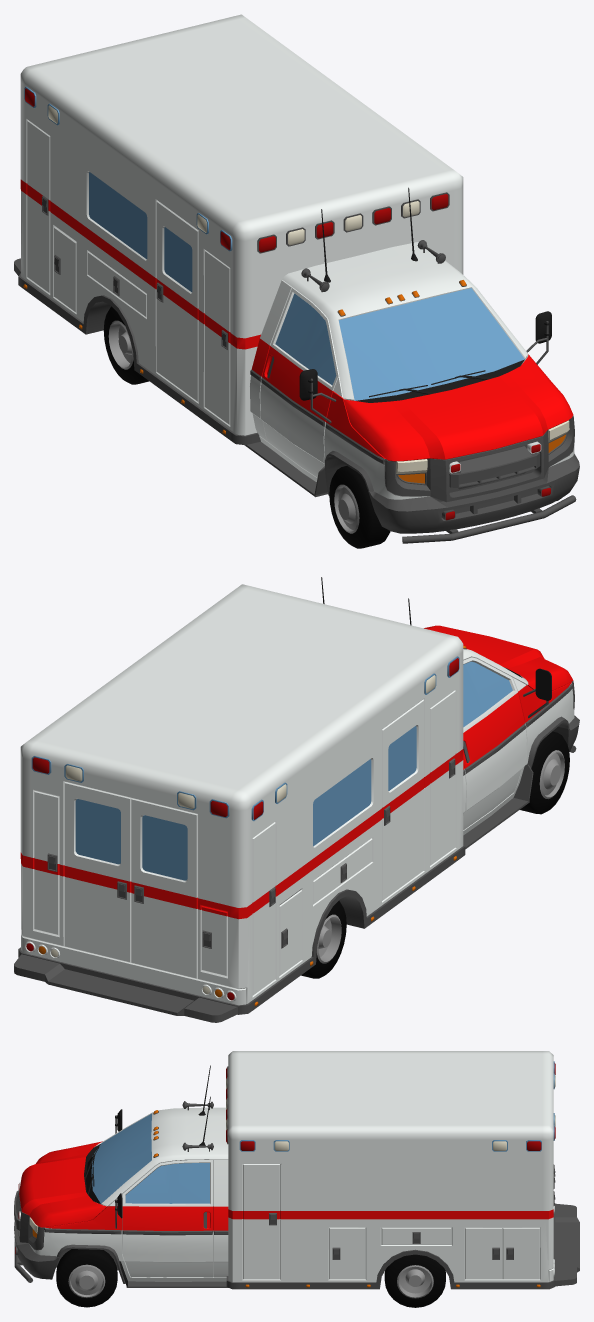
File: Car_Ambulance.fbx
3 views of the same model, one above another, from view 1: azimuth 30°, elevation 25°; view 2: azimuth 150°, elevation 25°; view 3: azimuth 270°, elevation 25° (orthographic). The views are drawn at different scales.
Parts seen in each view (by area): view 1: CAR_Ambulance, Car_Ambulance_Wheel_F_R, Car_Ambulance_Wheel_R_R; view 2: CAR_Ambulance, Car_Ambulance_Wheel_F_R, Car_Ambulance_Wheel_R_R; view 3: CAR_Ambulance, Car_Ambulance_Wheel_F_L, Car_Ambulance_Wheel_R_L.
Boxes of the visible parts, left/top/right/bottom form: CAR_Ambulance: left=14, top=14, right=579, bottom=543; Car_Ambulance_Wheel_F_R: left=329, top=466, right=390, bottom=548; Car_Ambulance_Wheel_R_R: left=103, top=306, right=148, bottom=384; CAR_Ambulance: left=14, top=577, right=579, bottom=1022; Car_Ambulance_Wheel_F_R: left=520, top=731, right=569, bottom=814; Car_Ambulance_Wheel_R_R: left=301, top=900, right=346, bottom=978; CAR_Ambulance: left=14, top=1051, right=579, bottom=1289; Car_Ambulance_Wheel_F_L: left=56, top=1249, right=117, bottom=1307; Car_Ambulance_Wheel_R_L: left=384, top=1254, right=445, bottom=1307.
Size of the model in its own units: 55.57 by 55.23 by 148.
